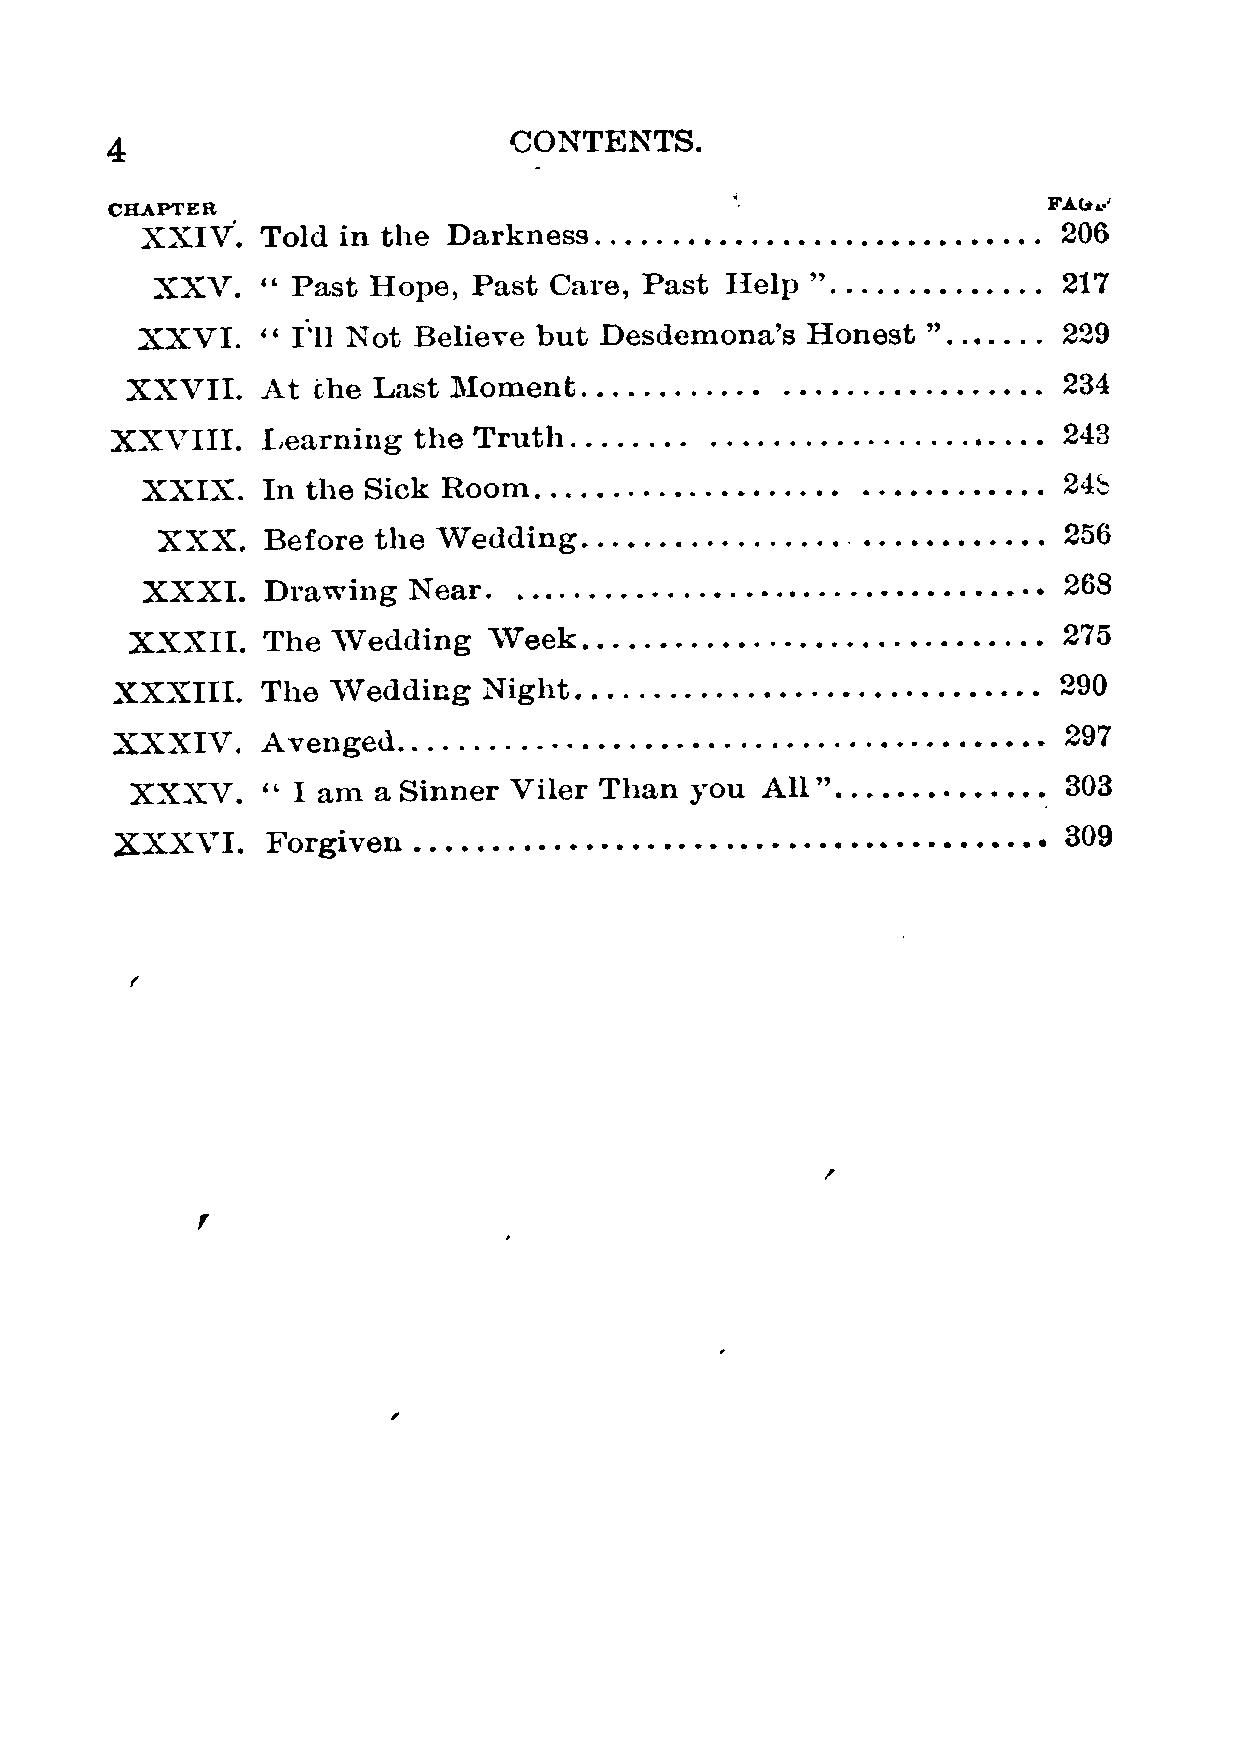TOC_chapter: (130, 315, 921, 360), (118, 772, 833, 815), (144, 267, 828, 303), (150, 515, 582, 561), (114, 368, 585, 407), (121, 619, 578, 658), (107, 674, 578, 710), (105, 420, 568, 456), (137, 212, 599, 248), (130, 569, 488, 612), (105, 820, 407, 870), (134, 471, 538, 505), (107, 723, 408, 758)
TOC_pagenumber: (1056, 560, 1122, 599), (1052, 663, 1117, 701), (1059, 260, 1113, 298), (1056, 209, 1110, 246), (1062, 612, 1115, 648), (1056, 365, 1115, 397), (1063, 715, 1115, 752), (1062, 411, 1113, 447), (1066, 514, 1117, 550), (1066, 462, 1114, 499), (1063, 816, 1115, 849), (1063, 317, 1113, 346), (1063, 768, 1113, 797)
chapter: (505, 123, 709, 156)
